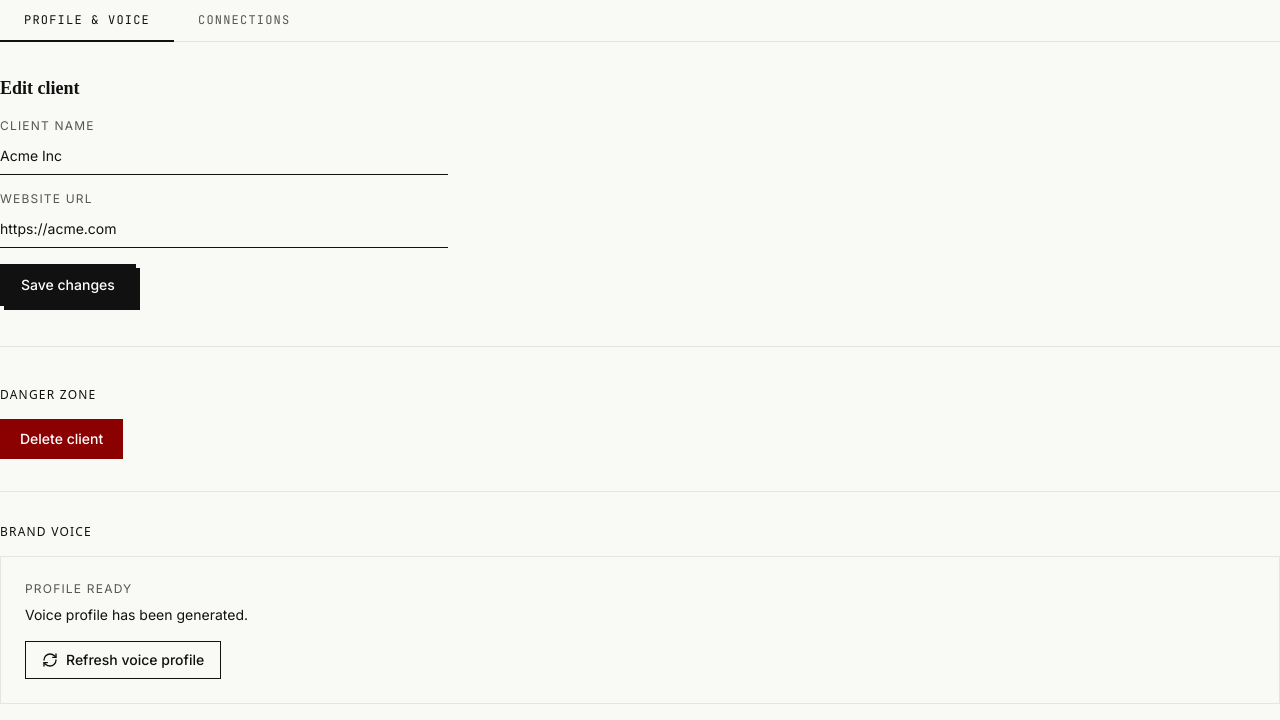
Test case: ClientDetail – Refresh voice profile button › shows an error alert and keeps the modal open when clientsApi.ingest rejects
Step 1. Click the button "Refresh voice profile" → click(123, 660), box x1=25 y1=641 x2=221 y2=679
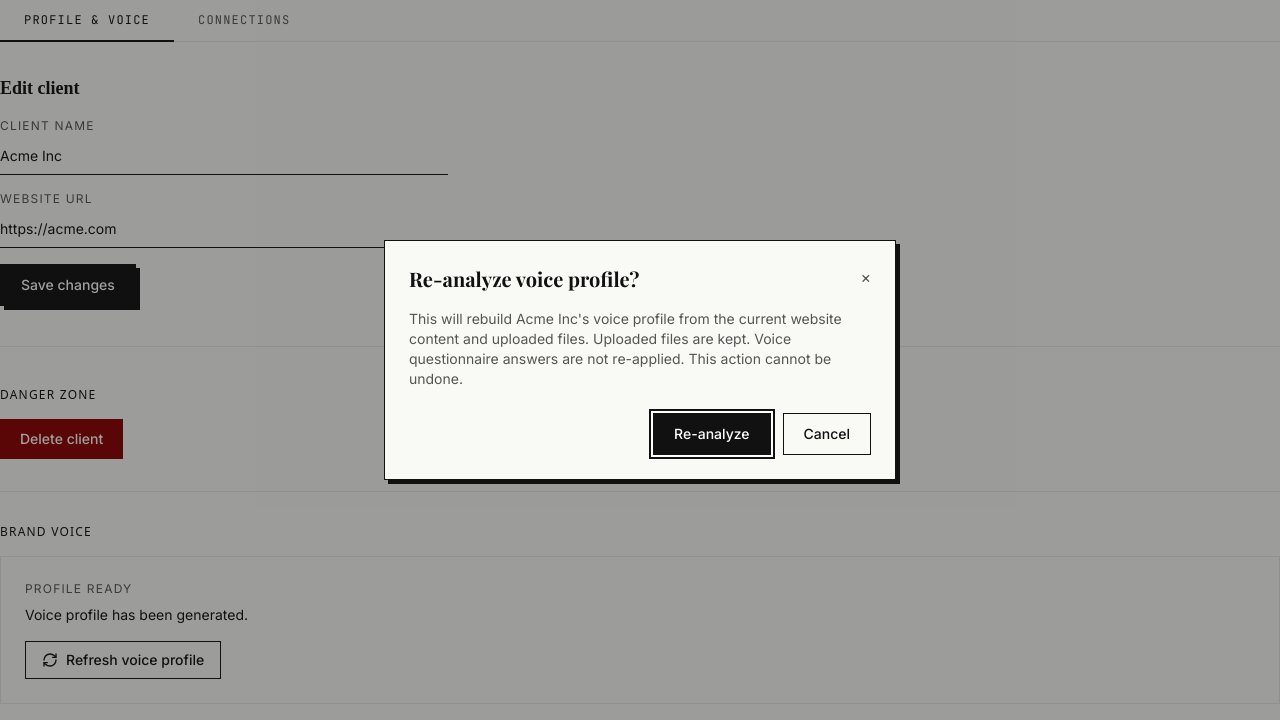
Step 2. Click the button "Re-analyze" → click(712, 434), box x1=653 y1=413 x2=770 y2=455
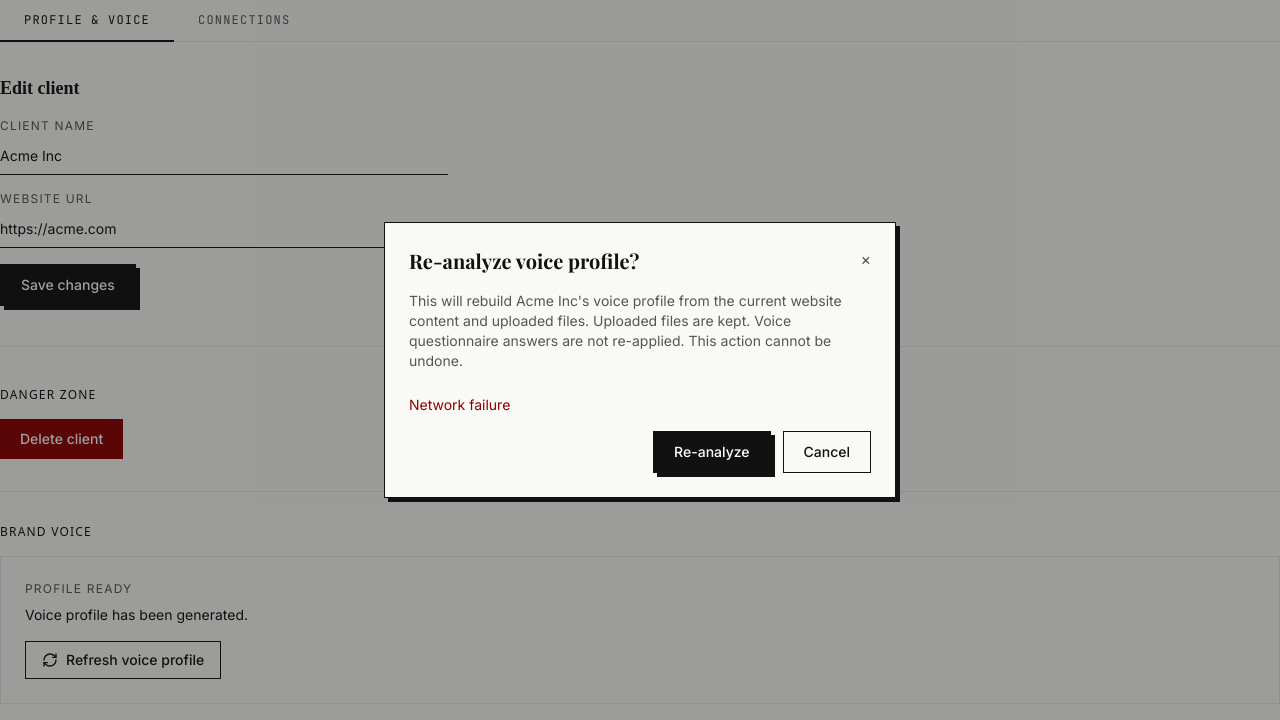
Check: the dialog is shown
Check: the message reads "Network failure", box x1=409 y1=396 x2=510 y2=413
